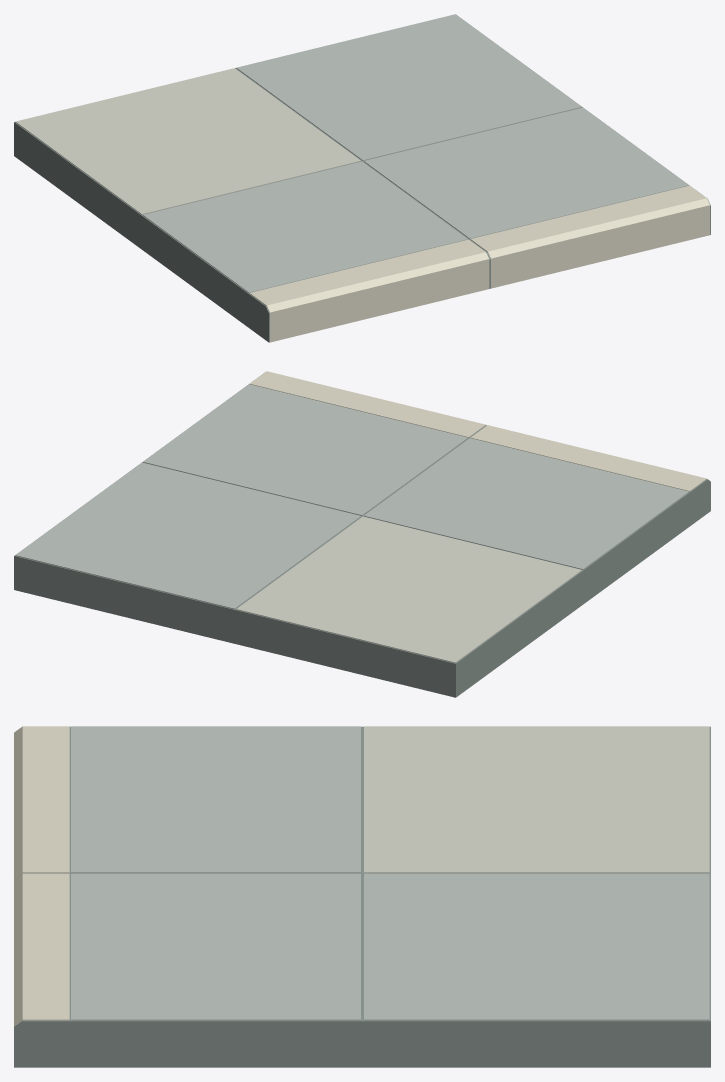
File: sidewalk_straight_2m.glb
3 views of the same model, one above another, from view 1: azimuth 30°, elevation 25°; view 2: azimuth 150°, elevation 25°; view 3: azimuth 270°, elevation 25° (orthographic). The views are drawn at different scales.
Parts seen in each view (by area): view 1: sidewalk_straight_2m; view 2: sidewalk_straight_2m; view 3: sidewalk_straight_2m.
Part boxes in pixels (<box>): sidewalk_straight_2m: <box>14,14,710,342</box>; sidewalk_straight_2m: <box>14,371,710,697</box>; sidewalk_straight_2m: <box>14,726,710,1067</box>.
Size of the model in its own units: 2 by 0.15 by 2.
